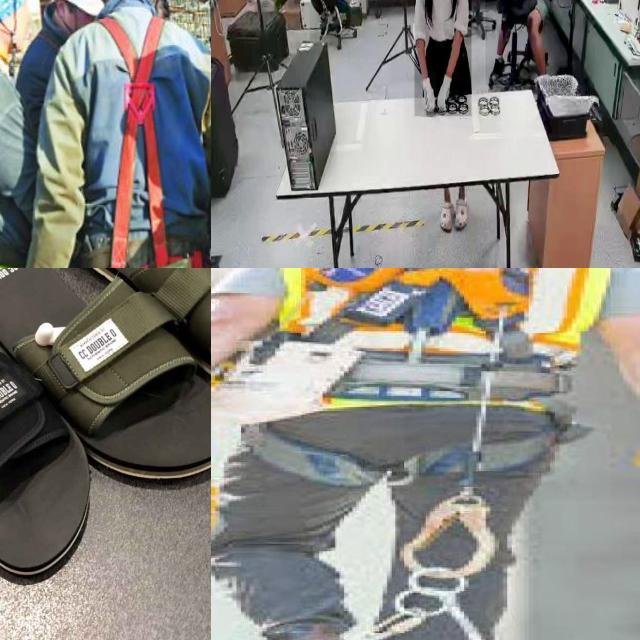Harness: (236, 268, 592, 494), (77, 13, 200, 268), (0, 46, 35, 268)
Sandals: (0, 268, 211, 487), (0, 268, 114, 640)
hand_glove: (421, 72, 437, 122), (439, 72, 453, 115)
person: (485, 0, 572, 85), (414, 0, 471, 117), (309, 0, 350, 39)
shoes: (488, 52, 506, 84), (316, 6, 330, 38), (330, 6, 343, 34)
